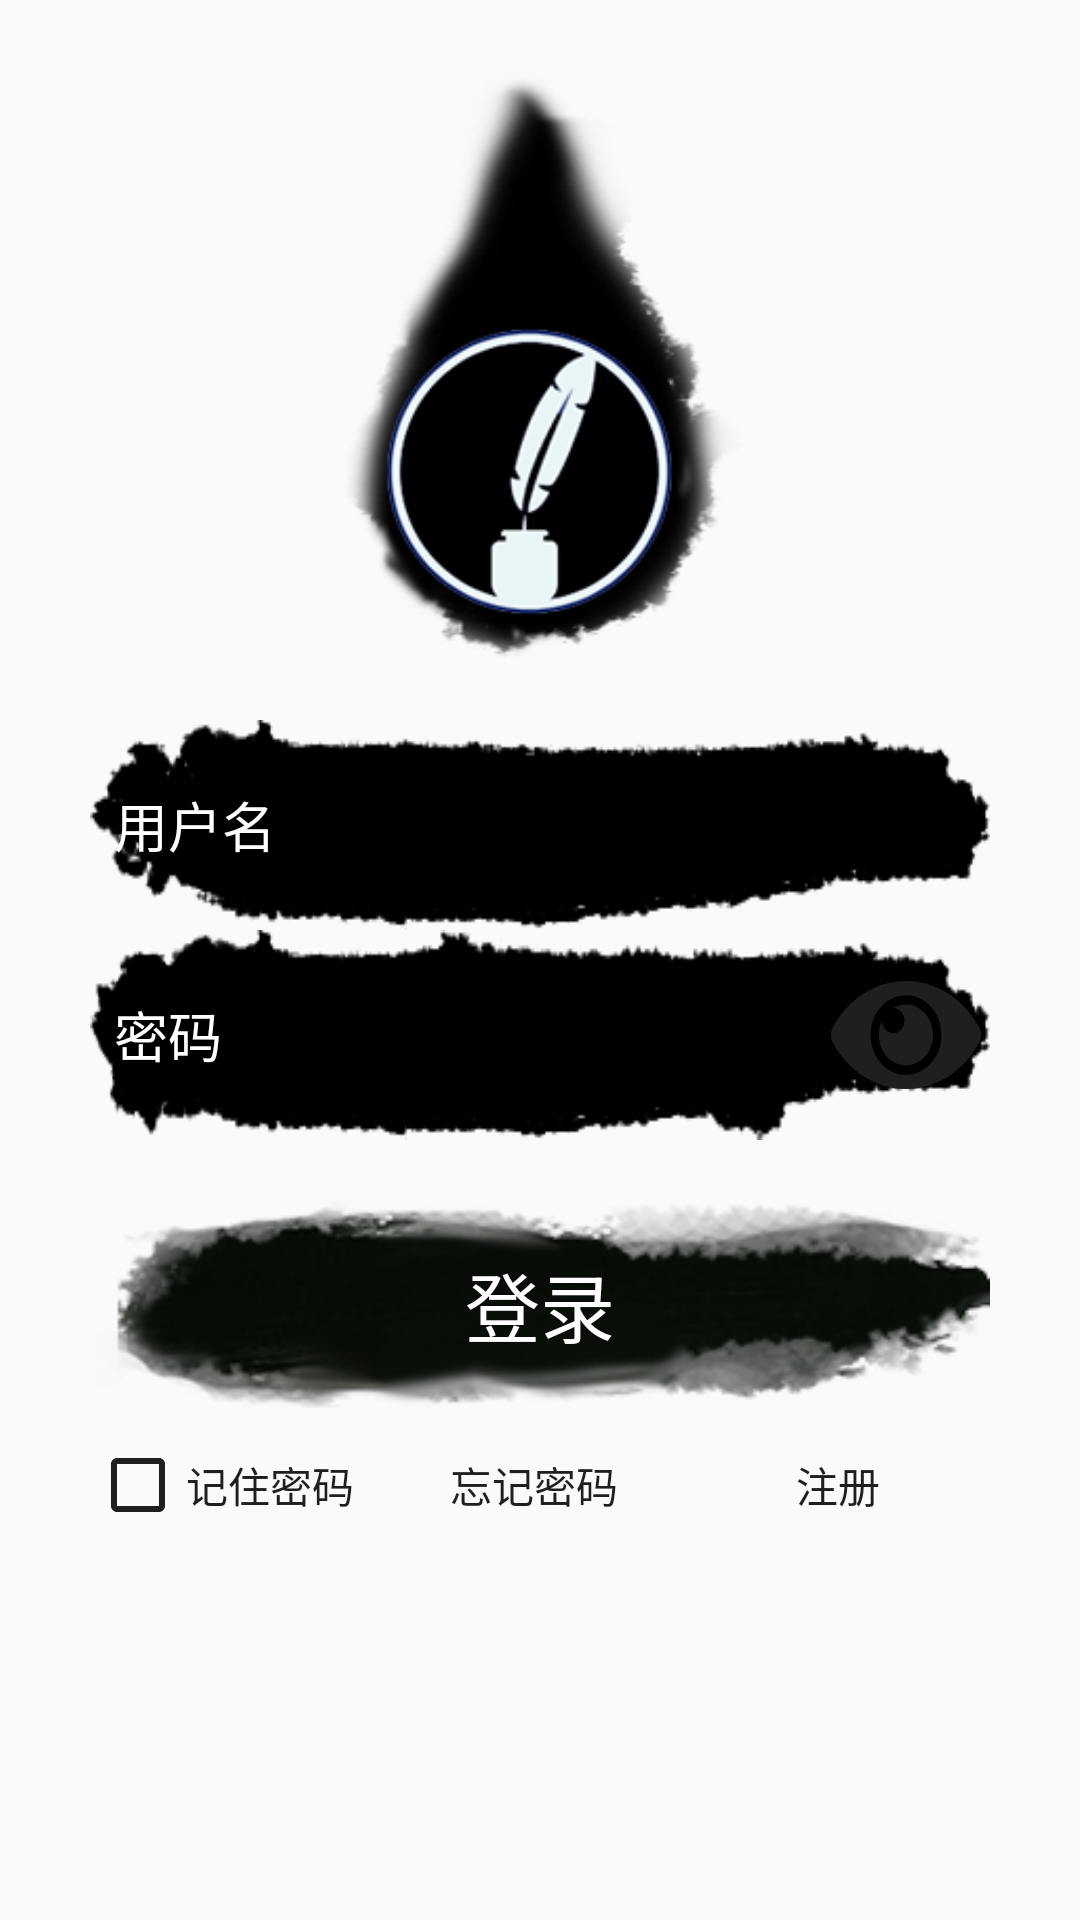

Icons on this 1080px x 1920px Android screen, each with the point to tap as (x=x, y=y):
eye: (x=906, y=1035)
